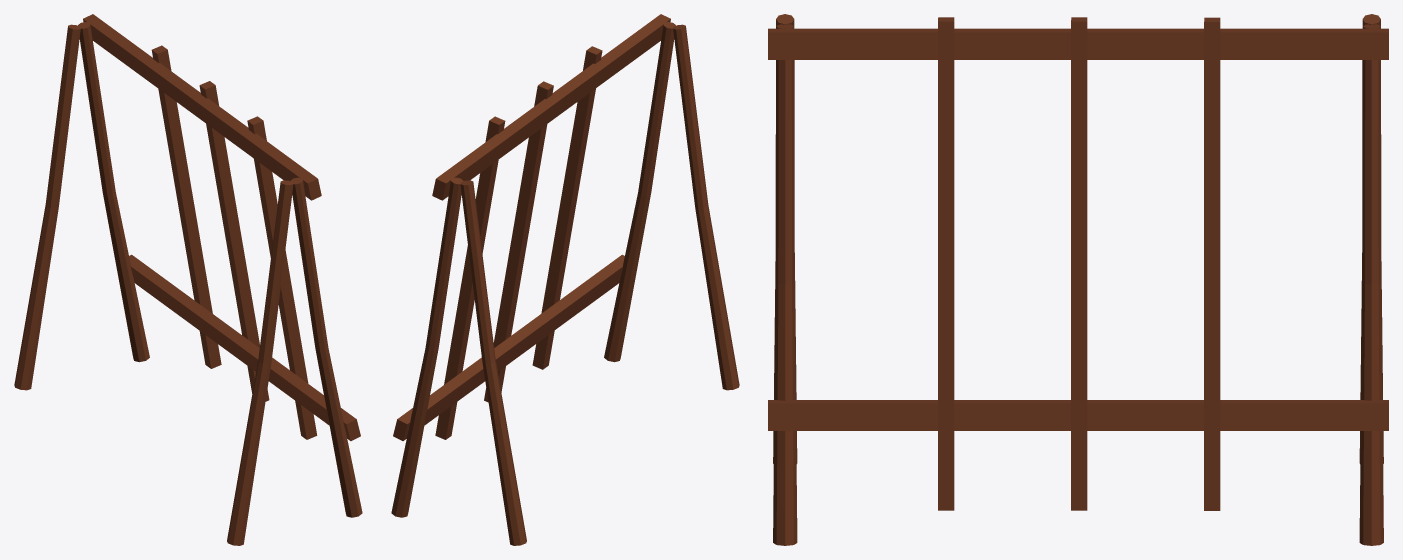
File: tannning_rack_empty.glb
The picture shows the model from 3 angles, left to right: view 1: azimuth 30°, elevation 25°; view 2: azimuth 150°, elevation 25°; view 3: azimuth 270°, elevation 25°; orthographic projection. The views are drawn at different scales.
Visible parts, largest first — view 1: tanning_rack; view 2: tanning_rack; view 3: tanning_rack.
Part boxes in pixels (x1,y1,x2,y2): tanning_rack: (14, 14, 362, 545); tanning_rack: (391, 14, 739, 545); tanning_rack: (768, 14, 1388, 545).
Bounding box in the file's own units: 0.6598 × 1.57 × 1.77.
